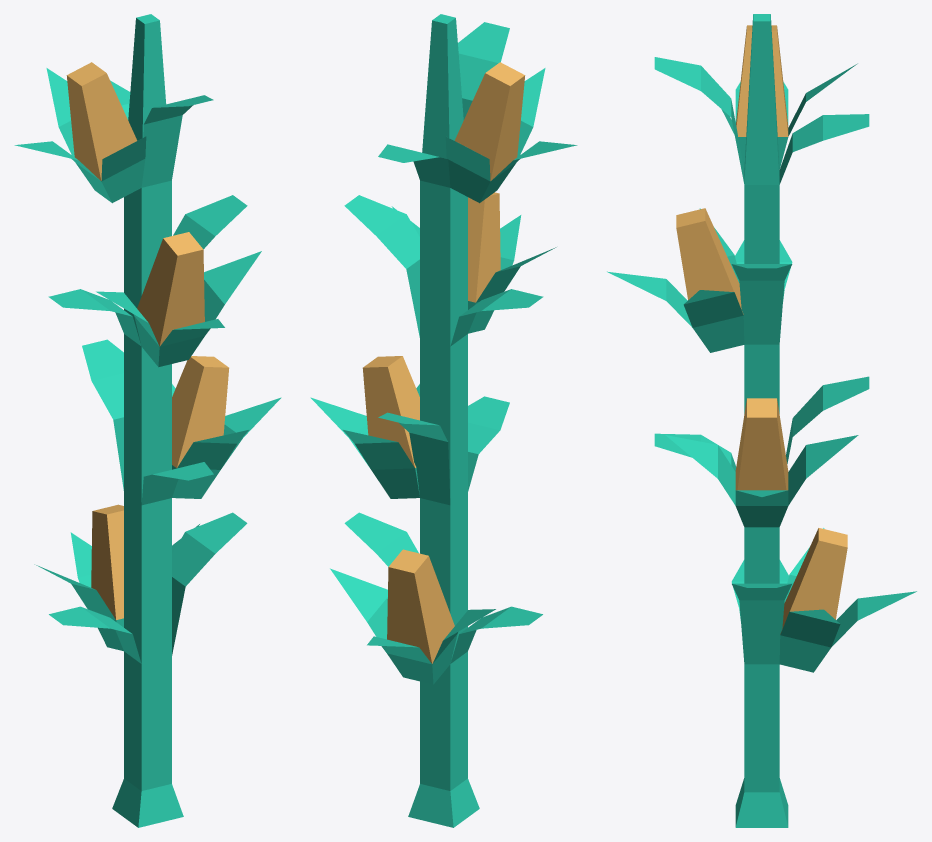
The model's file is crops_cornStageD.obj.
3 views of the same model, side by side, from view 1: azimuth 30°, elevation 25°; view 2: azimuth 150°, elevation 25°; view 3: azimuth 270°, elevation 25° (orthographic).
Parts seen in each view (by area): view 1: crops_cornStageD, corn; view 2: crops_cornStageD, corn; view 3: crops_cornStageD, corn.
Part boxes in pixels (x1,y1,x2,y2): crops_cornStageD: [48, 14, 247, 827]; corn: [14, 62, 281, 651]; crops_cornStageD: [344, 14, 543, 827]; corn: [310, 62, 577, 684]; crops_cornStageD: [654, 14, 869, 827]; corn: [607, 25, 916, 672].
Size of the model in its own units: 0.4416 by 1.25 by 0.4416.
